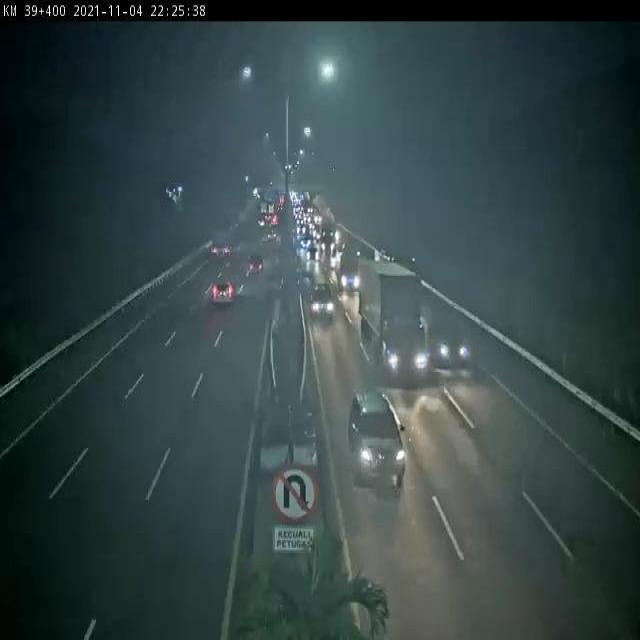car: (346, 390, 408, 494), (428, 300, 472, 367), (309, 283, 338, 320), (209, 278, 236, 310), (244, 250, 267, 274)
truck-m-: (334, 245, 362, 298)
truck-s-: (208, 228, 235, 264)
truck-xl-: (361, 256, 435, 380)
